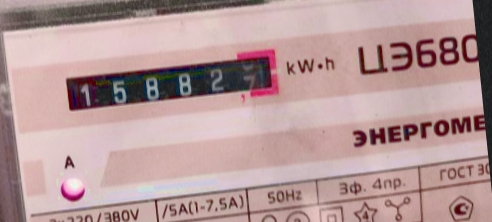1: (76, 80, 92, 110)
2: (206, 66, 225, 96)
5: (108, 78, 128, 106)
7: (239, 73, 256, 91)
8: (140, 75, 159, 104), (174, 70, 192, 100)
screen: (49, 41, 289, 126)
